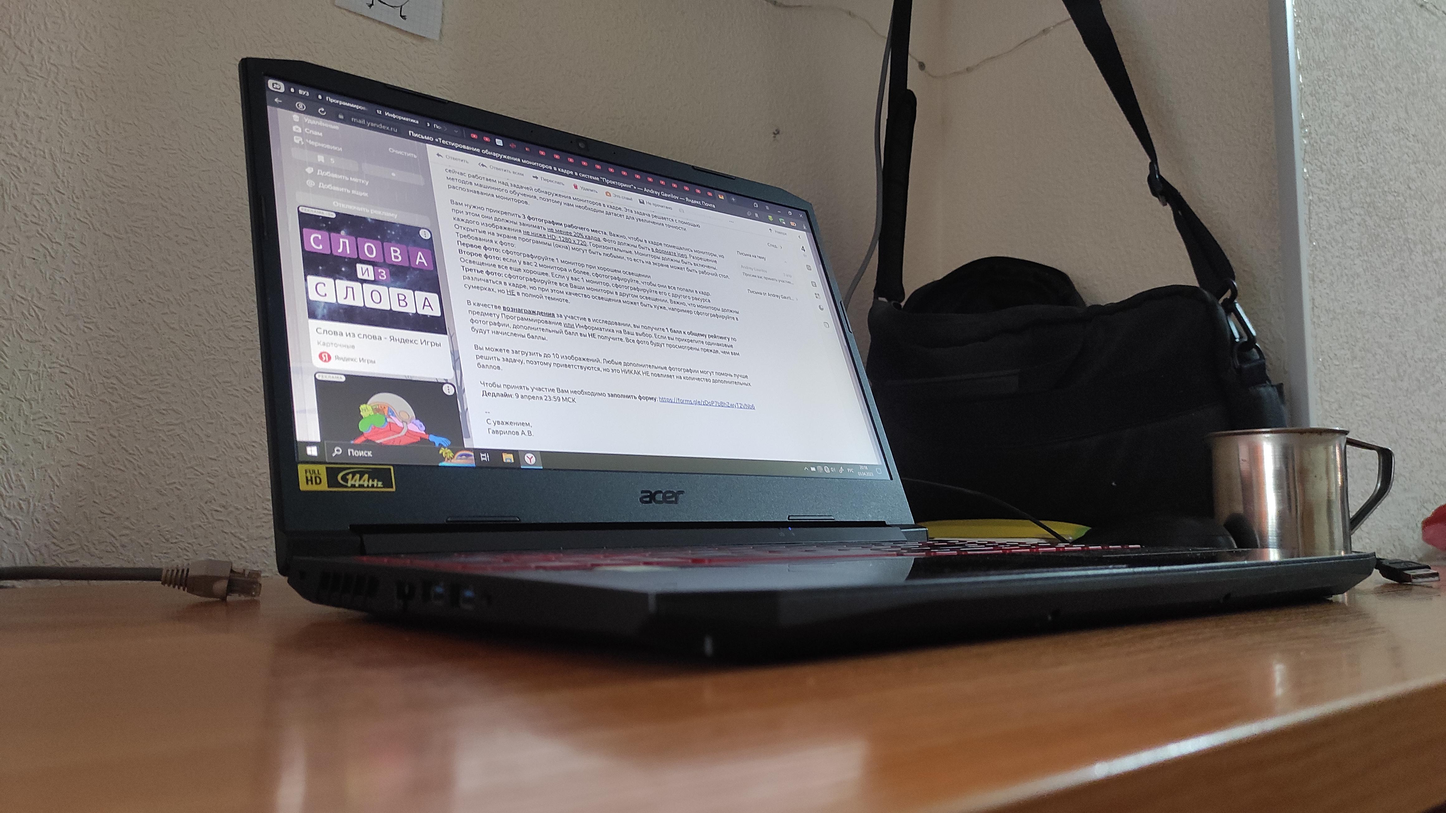monitor: (235, 45, 922, 592)
